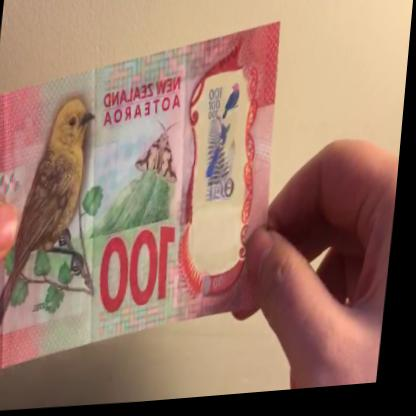100B: (195, 77, 250, 254)
